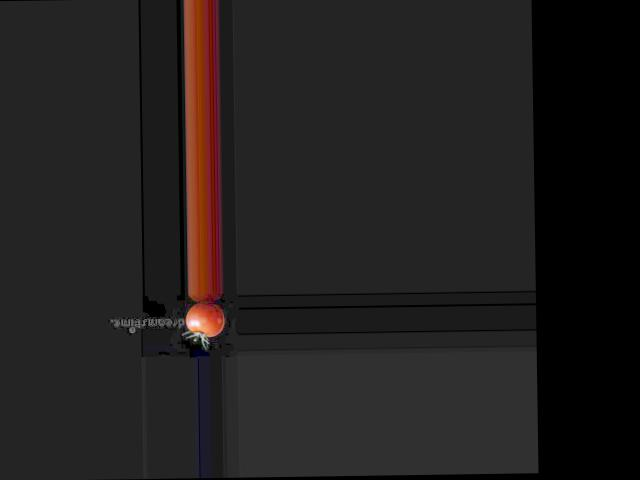tomato: (185, 303, 224, 336)
